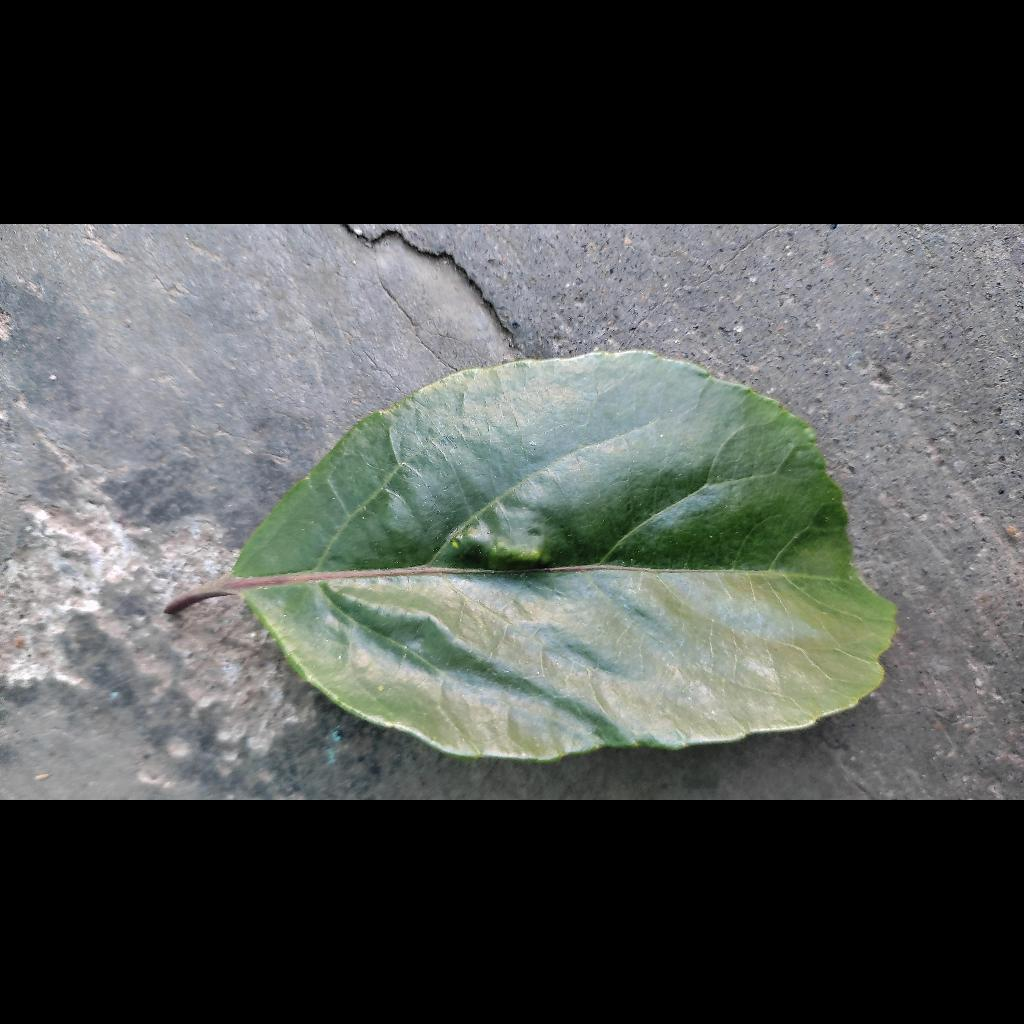Healthy: (168, 352, 895, 759)
